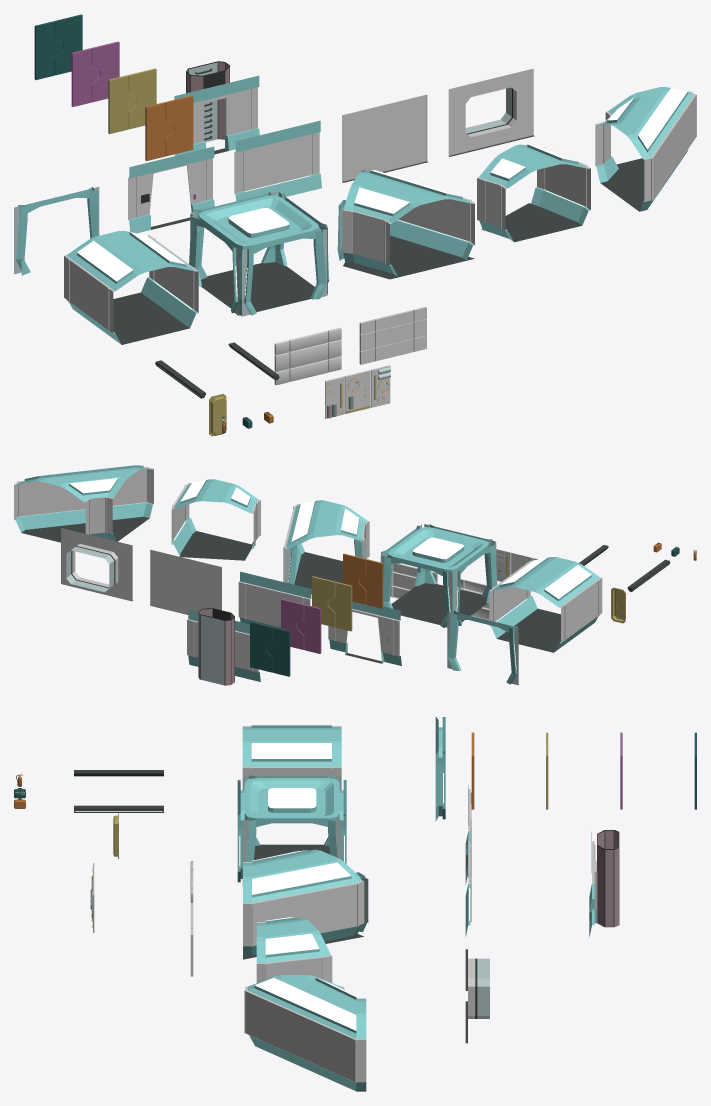
Rendered from CorridorModel.glb.
3 renders of one model, top to bottom at view 1: azimuth 30°, elevation 25°; view 2: azimuth 150°, elevation 25°; view 3: azimuth 270°, elevation 25°, orthographic. The views are drawn at different scales.
Parts seen in each view (by area): view 1: wallCorridor Bend_45, wallCorridor_straight, wallCorridor Bend_90, wallCorridor Bend_22.5, Corridor_WildEndBland, corridor_wildEnd, corridor_AccessShaft, Corridor_Window, Arch_open, Cieling_4way, corridor_Door, floor_open (+18 smaller); view 2: wallCorridor Bend_90, wallCorridor_straight, corridor_AccessShaft, Corridor_WildEndBland, Corridor_Window, wallCorridor Bend_45, Arch_open, wallCorridor Bend_22.5, Cieling_4way, corridor_wildEnd, floor_open, corridor_Door (+19 smaller); view 3: wallCorridor Bend_90, wallCorridor Bend_45, wallCorridor_straight, wallCorridor Bend_22.5, Cieling_4way, Arch_open, corridor_AccessShaft, Corridor_Window, Corridor_handrails, arch_oneway, floor_open.
Boxes of the visible parts, <box> form: wallCorridor Bend_45: <box>342,170,474,276</box>; wallCorridor_straight: <box>64,231,198,344</box>; wallCorridor Bend_90: <box>595,87,696,211</box>; wallCorridor Bend_22.5: <box>477,144,590,241</box>; Corridor_WildEndBland: <box>342,94,427,182</box>; corridor_wildEnd: <box>234,120,321,201</box>; corridor_AccessShaft: <box>174,61,259,155</box>; Corridor_Window: <box>448,68,534,156</box>; Arch_open: <box>189,191,329,316</box>; Cieling_4way: <box>199,195,319,246</box>; corridor_Door: <box>128,146,214,233</box>; floor_open: <box>201,262,314,315</box>; wallCorridor Bend_90: <box>14,465,153,541</box>; wallCorridor_straight: <box>489,557,602,652</box>; corridor_AccessShaft: <box>187,608,260,685</box>; Corridor_WildEndBland: <box>150,549,221,614</box>; Corridor_Window: <box>61,528,133,601</box>; wallCorridor Bend_45: <box>283,500,369,582</box>; Arch_open: <box>380,524,497,627</box>; wallCorridor Bend_22.5: <box>171,479,260,558</box>; Cieling_4way: <box>388,527,488,569</box>; corridor_wildEnd: <box>238,571,311,628</box>; floor_open: <box>391,583,487,624</box>; corridor_Door: <box>328,601,401,665</box>; wallCorridor Bend_90: <box>244,975,366,1091</box>; wallCorridor Bend_45: <box>243,849,364,955</box>; wallCorridor_straight: <box>242,724,341,776</box>; wallCorridor Bend_22.5: <box>256,917,332,982</box>; Cieling_4way: <box>244,778,339,818</box>; Arch_open: <box>237,775,346,886</box>; corridor_AccessShaft: <box>589,830,619,937</box>; Corridor_Window: <box>465,958,489,1043</box>; Corridor_handrails: <box>74,770,163,812</box>; arch_oneway: <box>435,717,445,821</box>; floor_open: <box>254,844,329,860</box>.
Bounding box in the file's own units: 30.11 × 7.78 × 27.59.
Materials: 3 (1 with a texture image).
